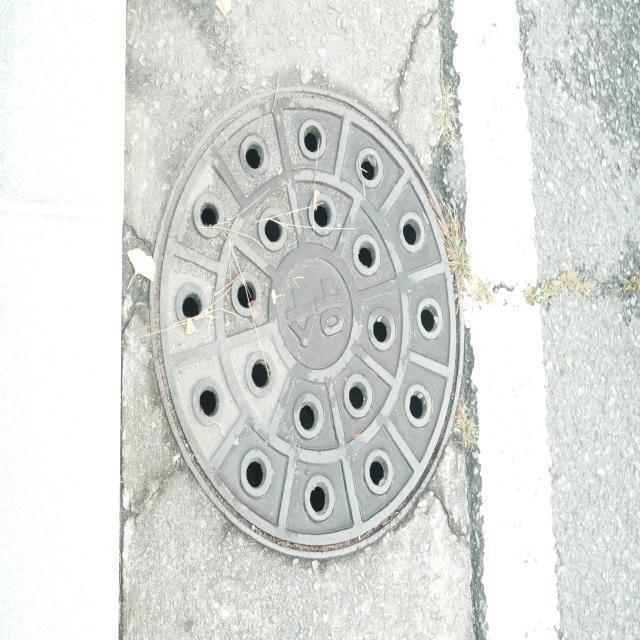manhole: (150, 88, 461, 557)
